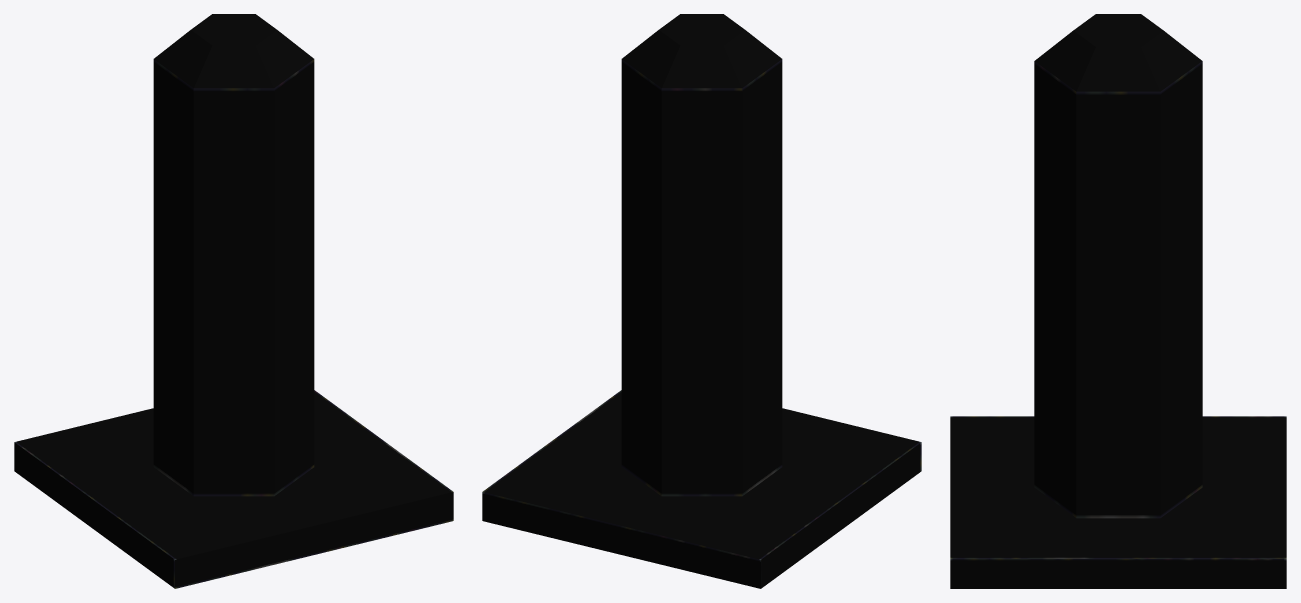
File: shrine.fbx
3 views of the same model, side by side, from view 1: azimuth 30°, elevation 25°; view 2: azimuth 150°, elevation 25°; view 3: azimuth 270°, elevation 25° (orthographic). The views are drawn at different scales.
Visible parts, largest first — view 1: Cylinder; view 2: Cylinder; view 3: Cylinder.
Part boxes in pixels (box(x1,y1,x2,y2)): Cylinder: box(14, 14, 453, 588); Cylinder: box(482, 14, 921, 588); Cylinder: box(950, 14, 1286, 588).
Size of the model in its own units: 200 by 320 by 200.
